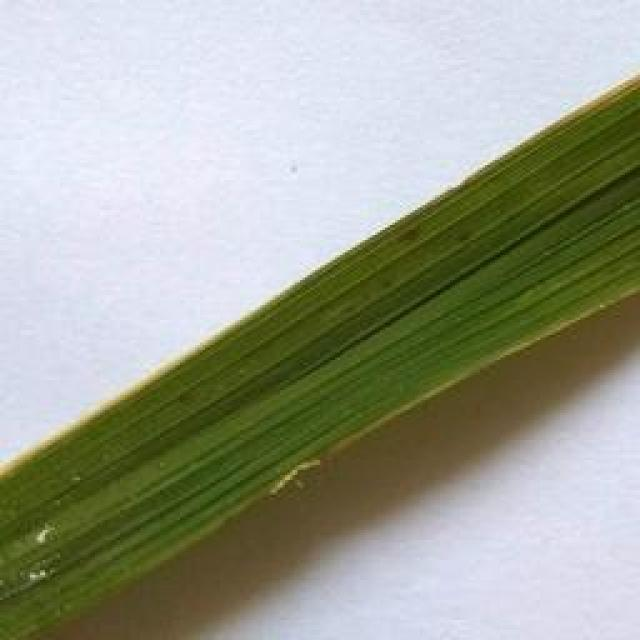Brown_Spot: (171, 380, 198, 410), (396, 222, 425, 248), (457, 229, 476, 249)
